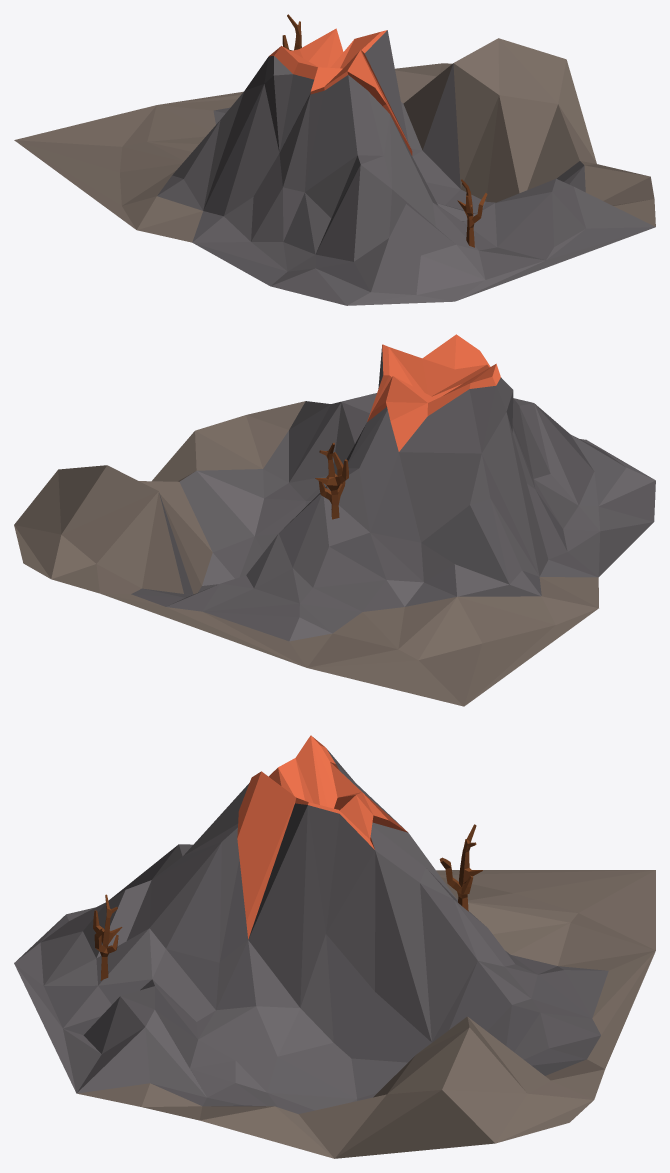
File: volcano.glb
3 renders of one model, top to bottom at view 1: azimuth 30°, elevation 25°; view 2: azimuth 150°, elevation 25°; view 3: azimuth 270°, elevation 25°, orthographic. The views are drawn at different scales.
Parts seen in each view (by area): view 1: Volcano, Tree; view 2: Volcano, Tree02; view 3: Volcano, Tree02, Tree.
Part boxes in pixels (bbox=[...]): Volcano: bbox=[14, 28, 655, 305]; Tree: bbox=[457, 179, 487, 247]; Volcano: bbox=[14, 334, 655, 706]; Tree02: bbox=[315, 442, 348, 519]; Volcano: bbox=[14, 735, 655, 1158]; Tree02: bbox=[439, 824, 482, 911]; Tree: bbox=[93, 894, 122, 980].
Size of the model in its own units: 6.42 by 3.05 by 6.42.
